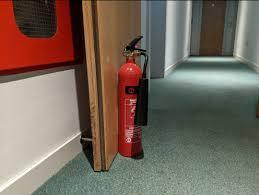floor-kept: (111, 32, 162, 161)
